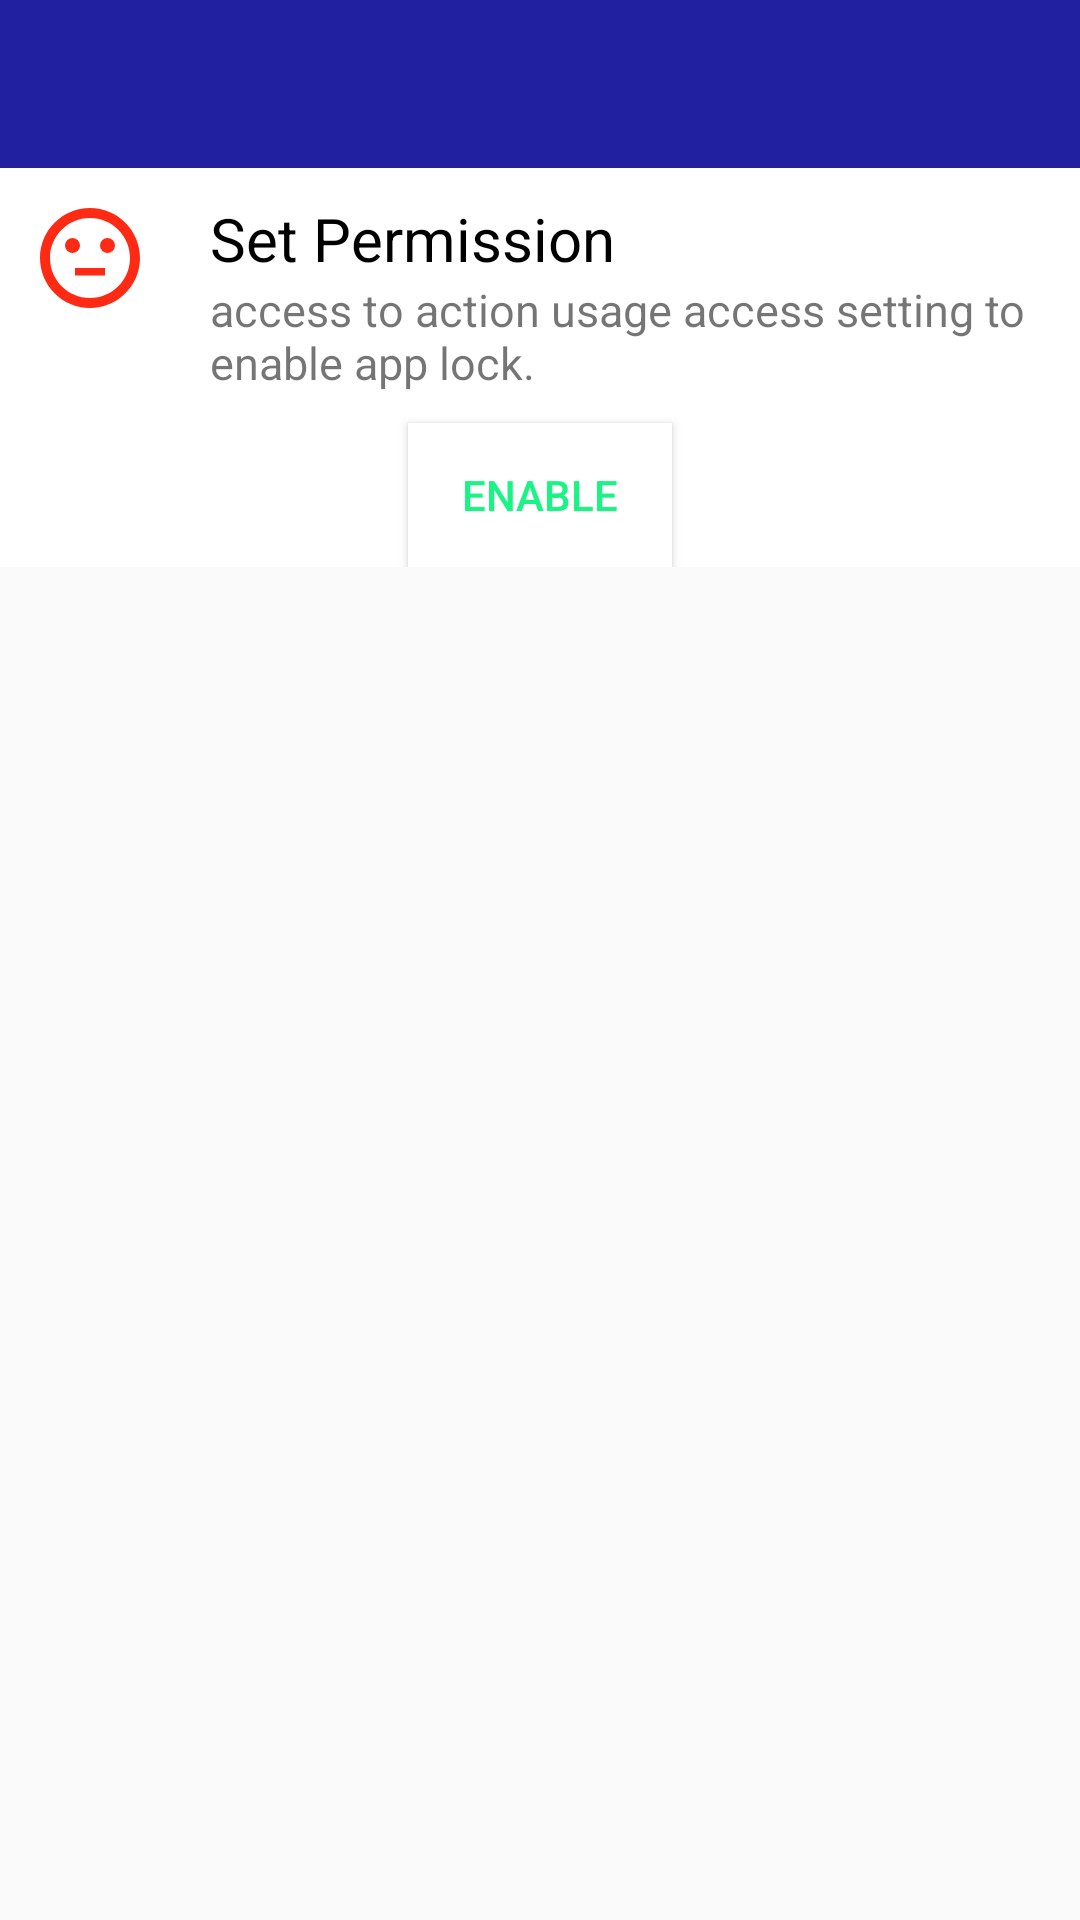

Point at icon controls on the screen. Image size 1080*1920, points as [x,y].
sentiment neutral: [90,258]
